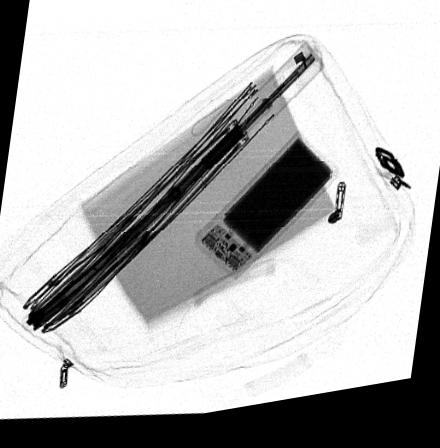Powerbank: (196, 141, 338, 289)
